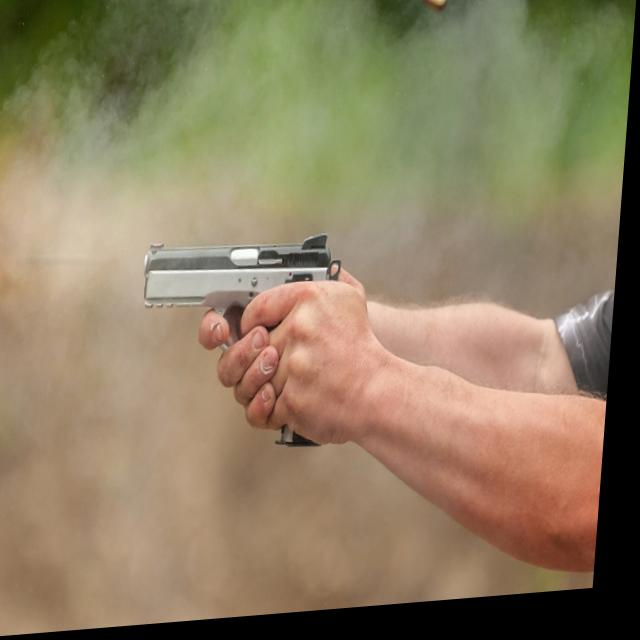handgun: (131, 228, 350, 463)
